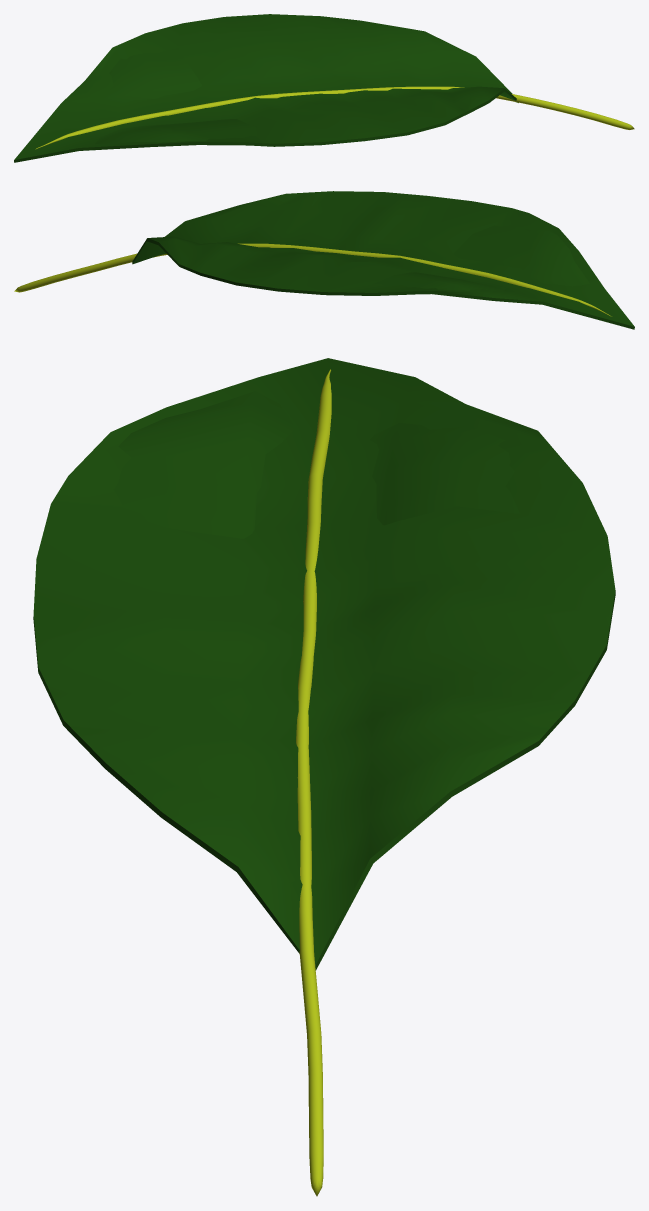
3 renders of one model, top to bottom at view 1: azimuth 30°, elevation 25°; view 2: azimuth 150°, elevation 25°; view 3: azimuth 270°, elevation 25°, orthographic. The views are drawn at different scales.
Visible parts, largest first — view 1: Plane001, Cylinder001; view 2: Plane001, Cylinder001; view 3: Plane001, Cylinder001.
Boxes of the visible parts, left/top/right/bottom form: Plane001: left=14, top=14, right=518, bottom=162; Cylinder001: left=35, top=86, right=634, bottom=149; Plane001: left=132, top=191, right=634, bottom=329; Cylinder001: left=14, top=243, right=611, bottom=316; Plane001: left=33, top=358, right=615, bottom=970; Cylinder001: left=296, top=369, right=331, bottom=1196.
Size of the model in its own units: 27252 by 6532 by 11113.
